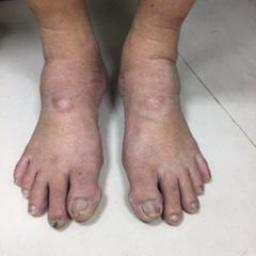Dorsal View -Both Feet-: (6, 13, 222, 232)
